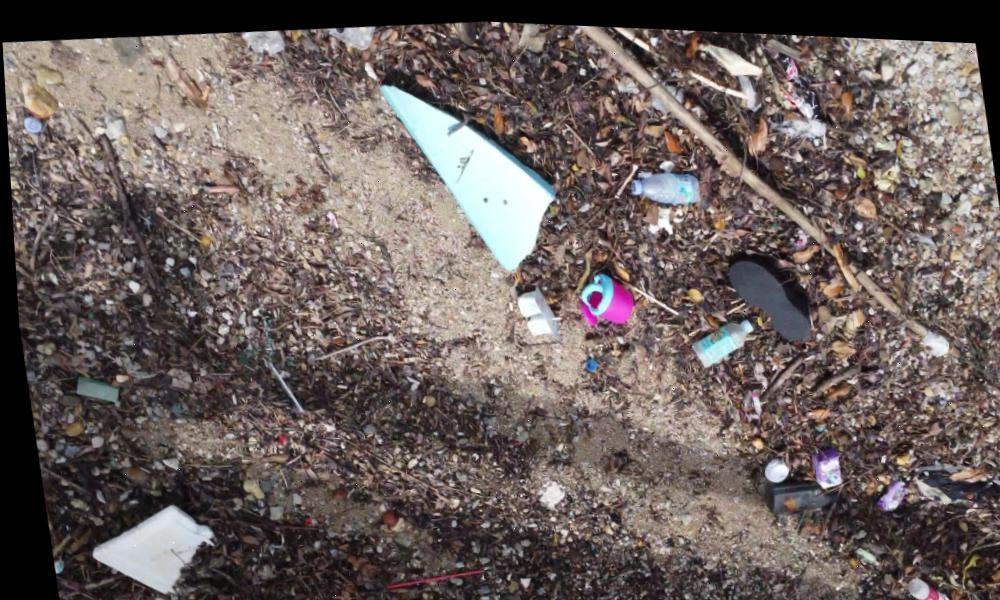carton: (805, 442, 849, 487), (866, 476, 906, 512)
plastic bottle: (617, 162, 713, 222), (675, 310, 756, 366), (898, 558, 952, 600)
